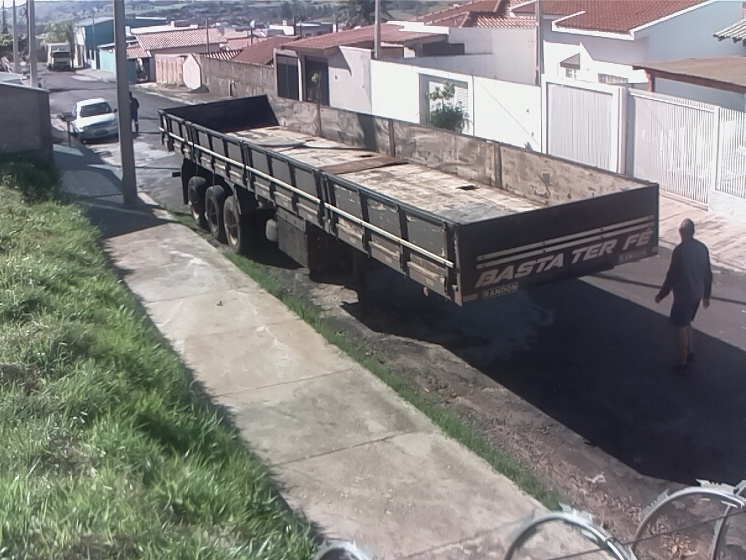person: (653, 216, 715, 375), (126, 87, 142, 135)
